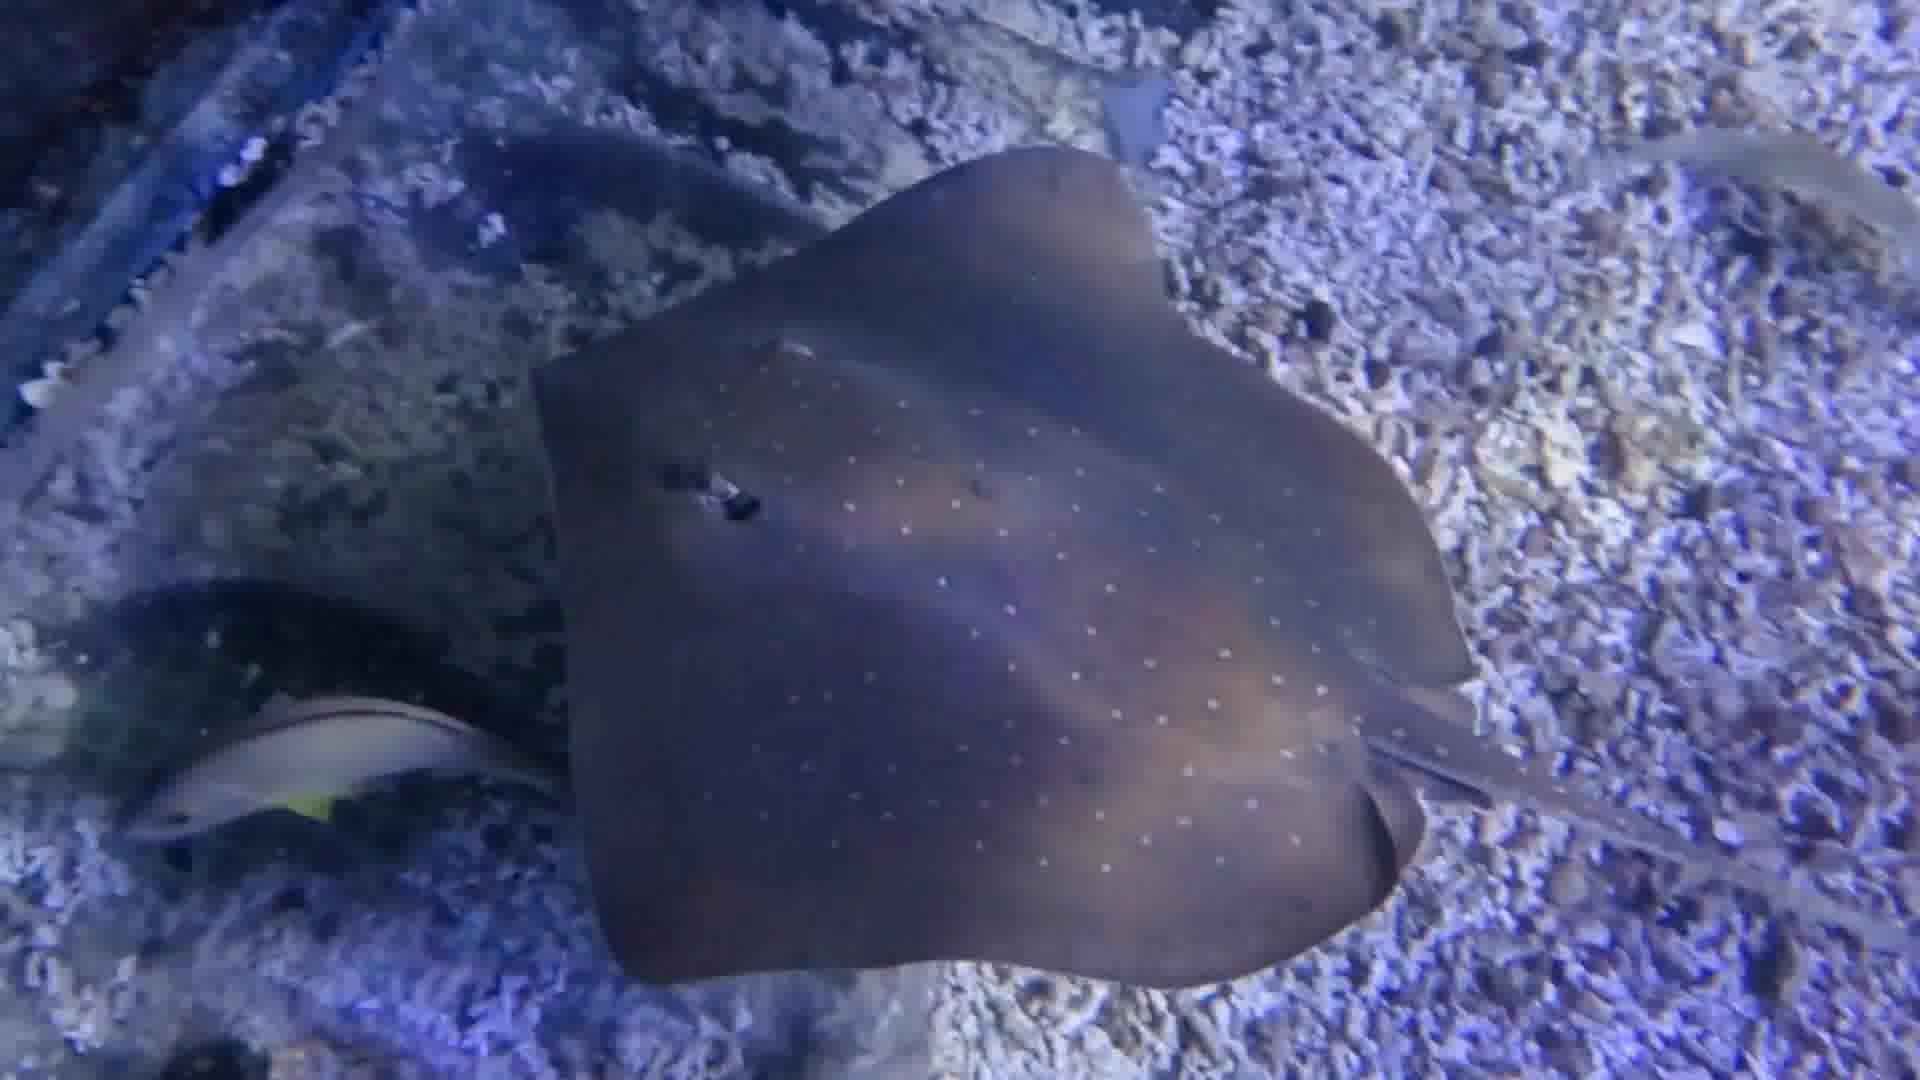Himantura gerrardi: (518, 148, 1826, 1019)
